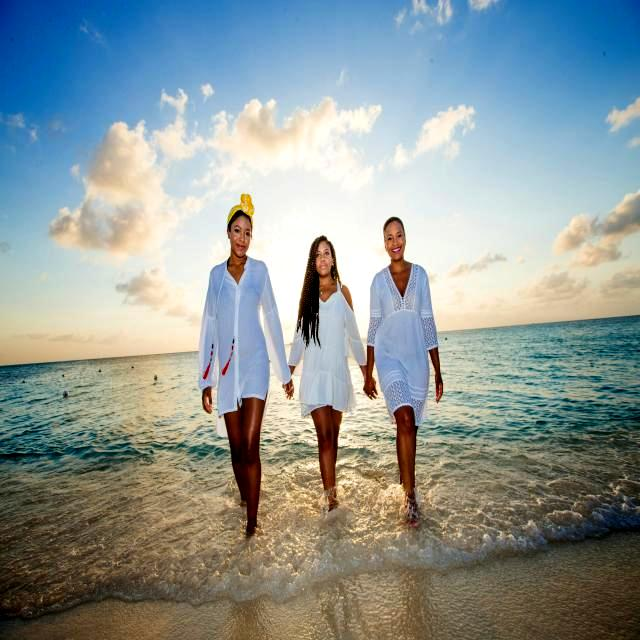no_hard_hat: (226, 193, 254, 225)
no_head_wear: (310, 235, 335, 257), (383, 216, 404, 234)
person: (199, 194, 294, 534), (367, 217, 443, 524), (288, 236, 366, 510)
